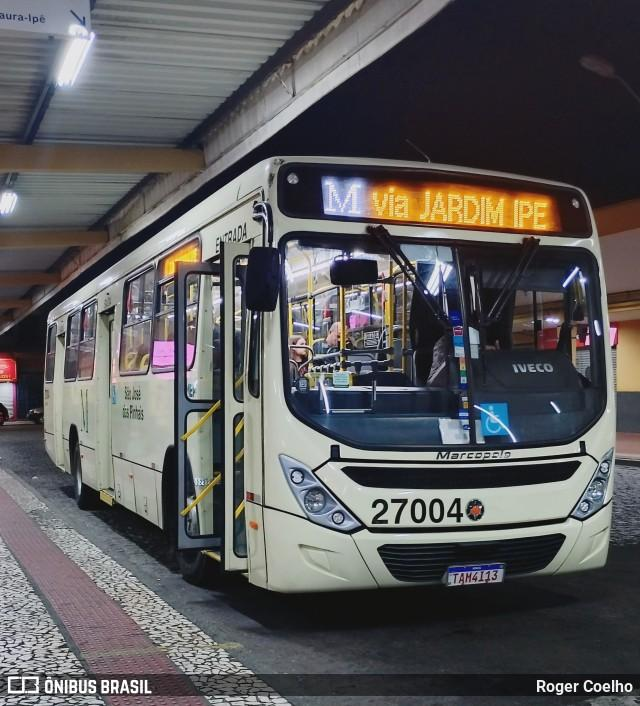JARDIM IPE: (414, 184, 555, 236)
